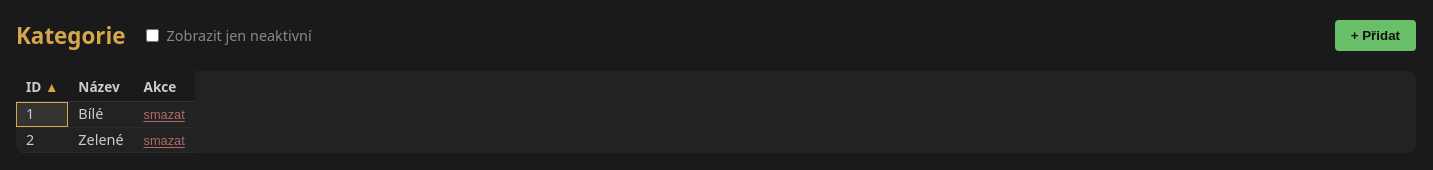
it: Categories › smazání zavolá deleteCategory a odebere řádek
Expected: the text "Bílé" is shown, [68,102,134,127]
Step 1. Click the button "smazat" next to "Bílé" → (164, 114), box [144,107,185,122]
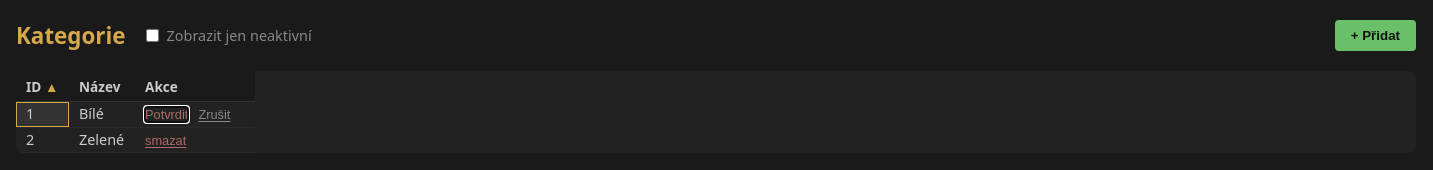
Step 2. Click the button "Potvrdit" → (167, 114), box [145,107,188,122]
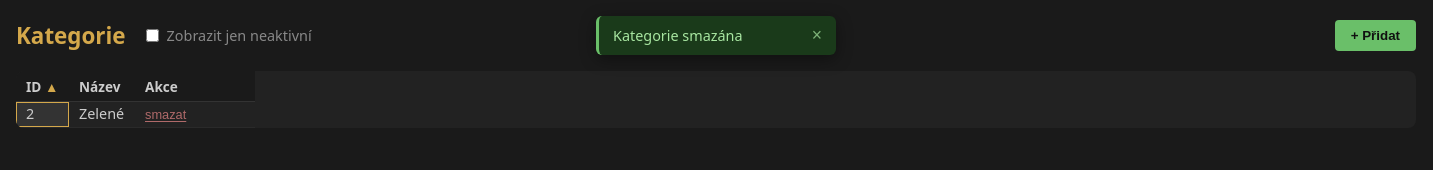
Result: the text "Bílé" is gone
